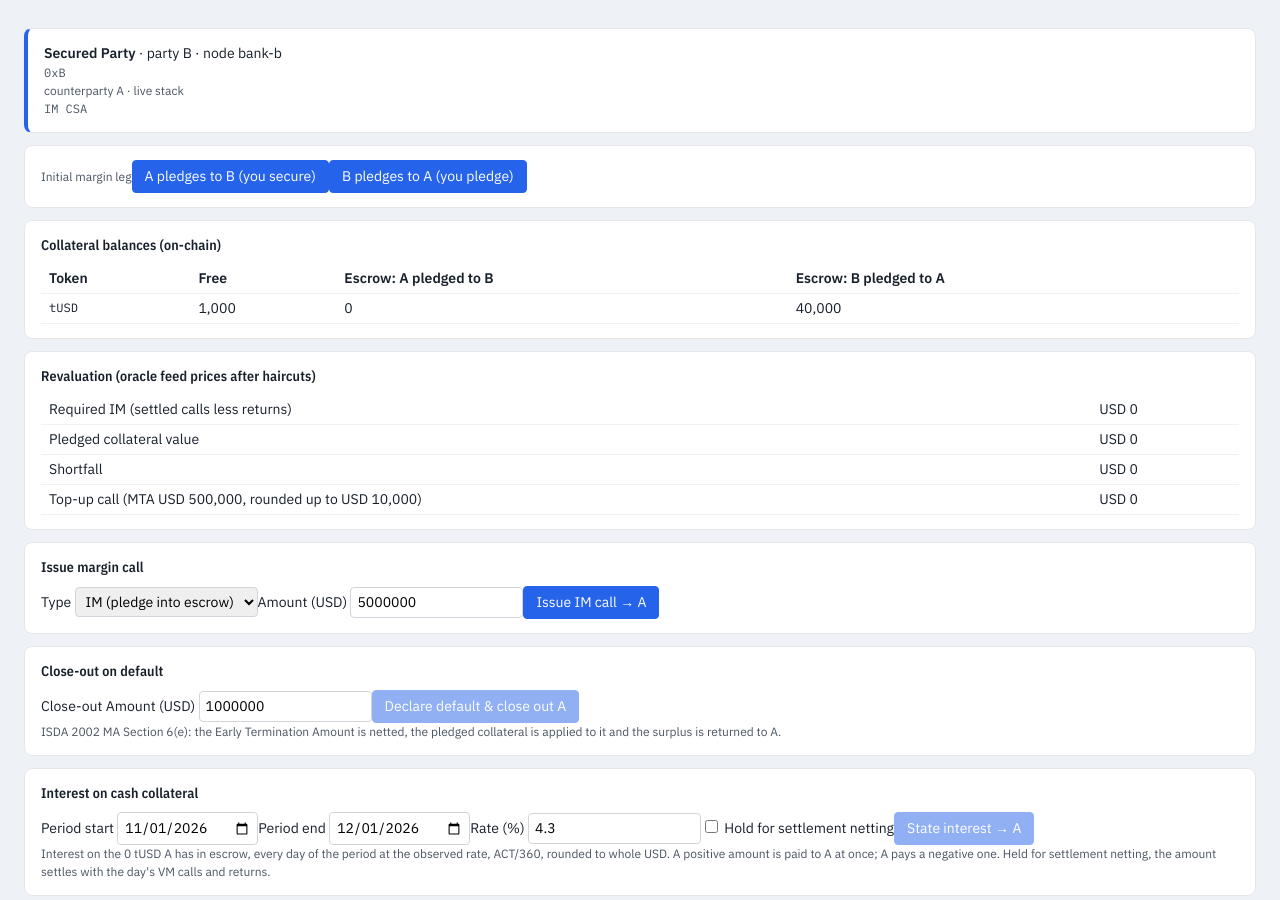
it: two-way initial margin (wp-adr-two-way-im) › selecting the leg the party pledges on gives it the pledgor's panels
Expected: the heading "Issue margin call" is shown, [41,558,144,576]
Click the button "B pledges to A (you pledge)".
click(428, 176)  # box [329,160,527,193]
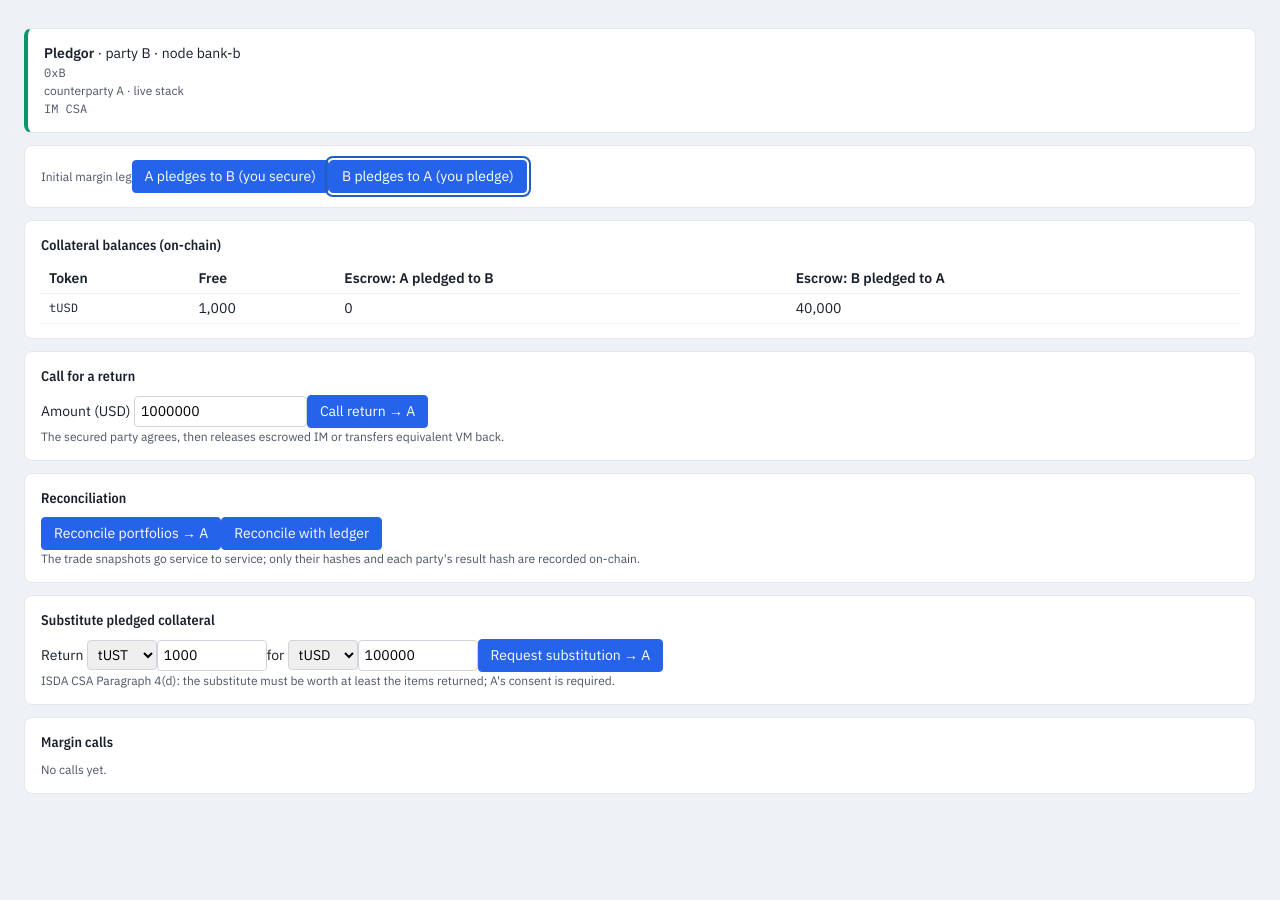
Expected: the cell with test id "escrow-b-to-a-tUSD" reads "40,000", [796,299,842,317]
Expected: the heading "Call for a return" is shown, [41,367,135,385]
Expected: the heading "Issue margin call" is gone
